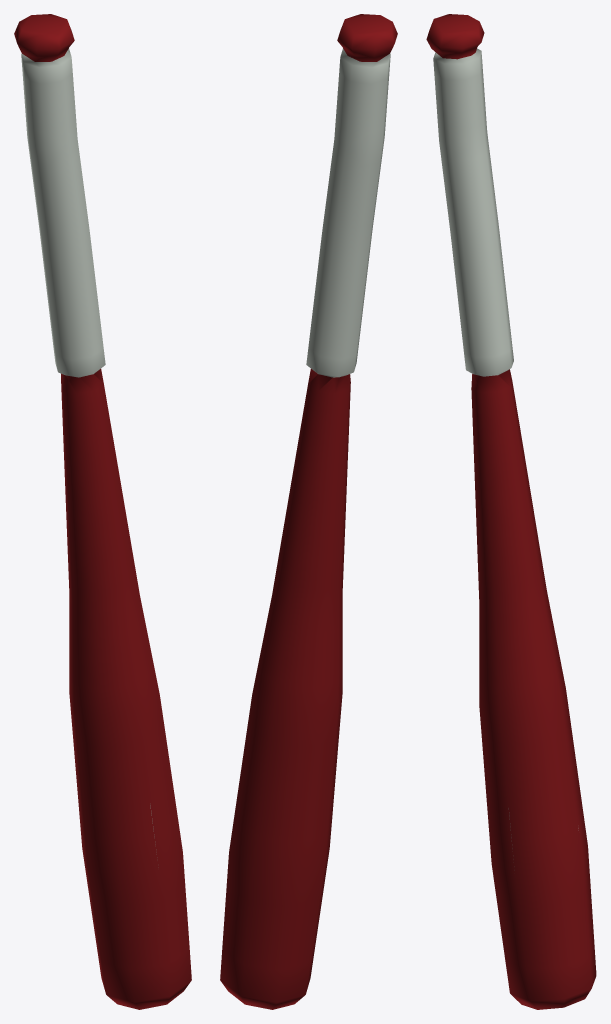
Rendered from baseball-bat.fbx.
3 views of the same model, side by side, from view 1: azimuth 30°, elevation 25°; view 2: azimuth 150°, elevation 25°; view 3: azimuth 330°, elevation 25° (orthographic). The views are drawn at different scales.
Visible parts, largest first — view 1: unamed; view 2: unamed; view 3: unamed.
Boxes of the visible parts, bbox=[...] form: unamed: bbox=[14, 14, 191, 1009]; unamed: bbox=[220, 14, 397, 1009]; unamed: bbox=[426, 14, 596, 1009].
Size of the model in its own units: 0.1678 by 0.9418 by 0.0896.
1 material, 1 textured.
